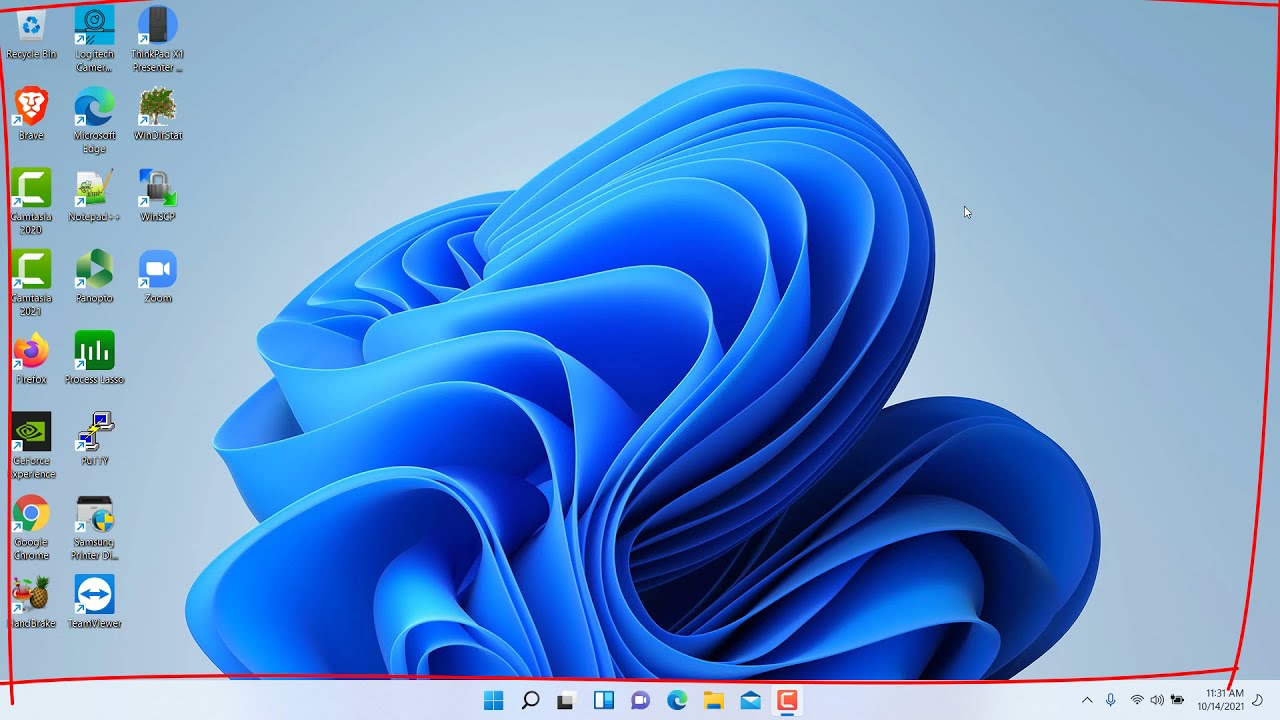start_bar: (478, 683, 513, 720)
